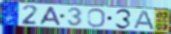2: (21, 4, 39, 26)
3: (113, 8, 134, 30), (67, 7, 84, 27)
A: (131, 10, 156, 31), (39, 6, 63, 26)
O: (87, 8, 107, 28)
